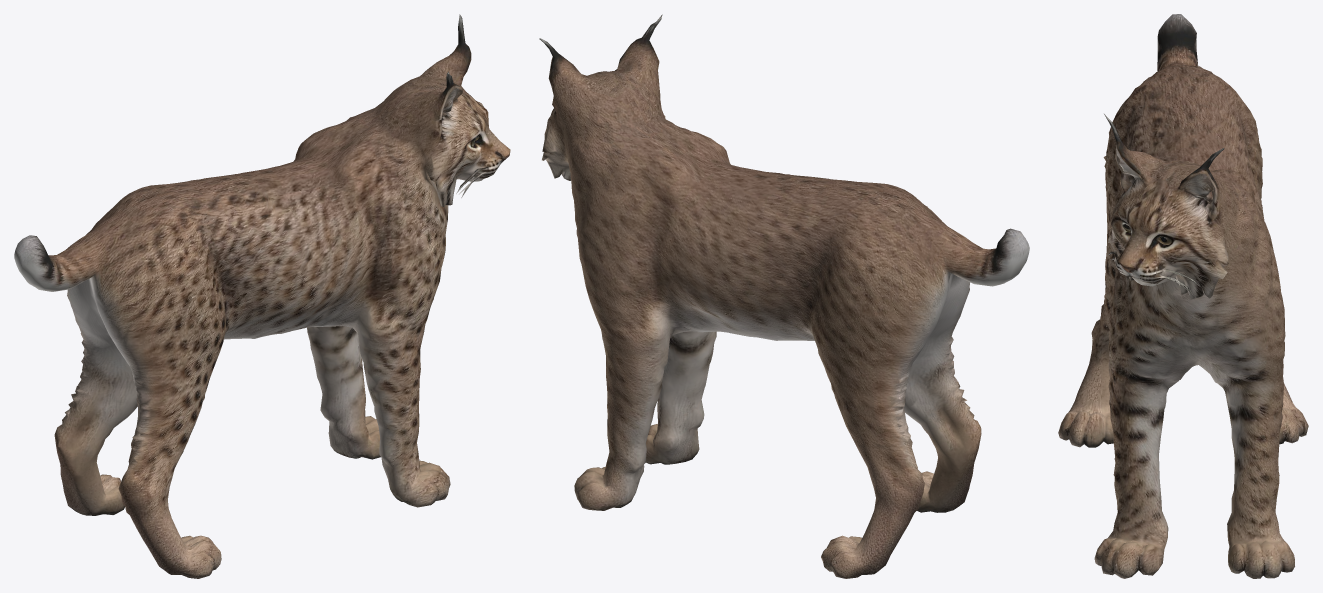
Rendered from STUBTAIL.glb.
The picture shows the model from 3 angles, left to right: view 1: azimuth 30°, elevation 25°; view 2: azimuth 150°, elevation 25°; view 3: azimuth 270°, elevation 25°; orthographic projection. The views are drawn at different scales.
Visible parts, largest first — view 1: tripo_node_07d07a46-2995-4c61-818f-d6573b1e6746; view 2: tripo_node_07d07a46-2995-4c61-818f-d6573b1e6746; view 3: tripo_node_07d07a46-2995-4c61-818f-d6573b1e6746.
Part boxes in pixels (<box>): tripo_node_07d07a46-2995-4c61-818f-d6573b1e6746: <box>14,14,510,578</box>; tripo_node_07d07a46-2995-4c61-818f-d6573b1e6746: <box>539,14,1029,578</box>; tripo_node_07d07a46-2995-4c61-818f-d6573b1e6746: <box>1058,14,1308,578</box>.
Bounding box in the file's own units: 1.15 × 1 × 0.4875.
1 material, 1 textured.
